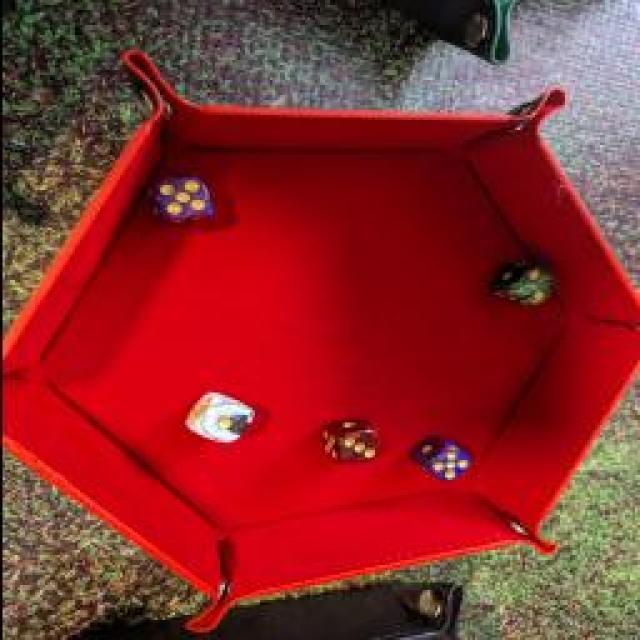dice_1: (180, 390, 258, 445)
dice_2: (490, 259, 558, 309)
dice_3: (311, 419, 381, 466)
dice_5: (142, 176, 216, 226), (407, 435, 475, 485)
